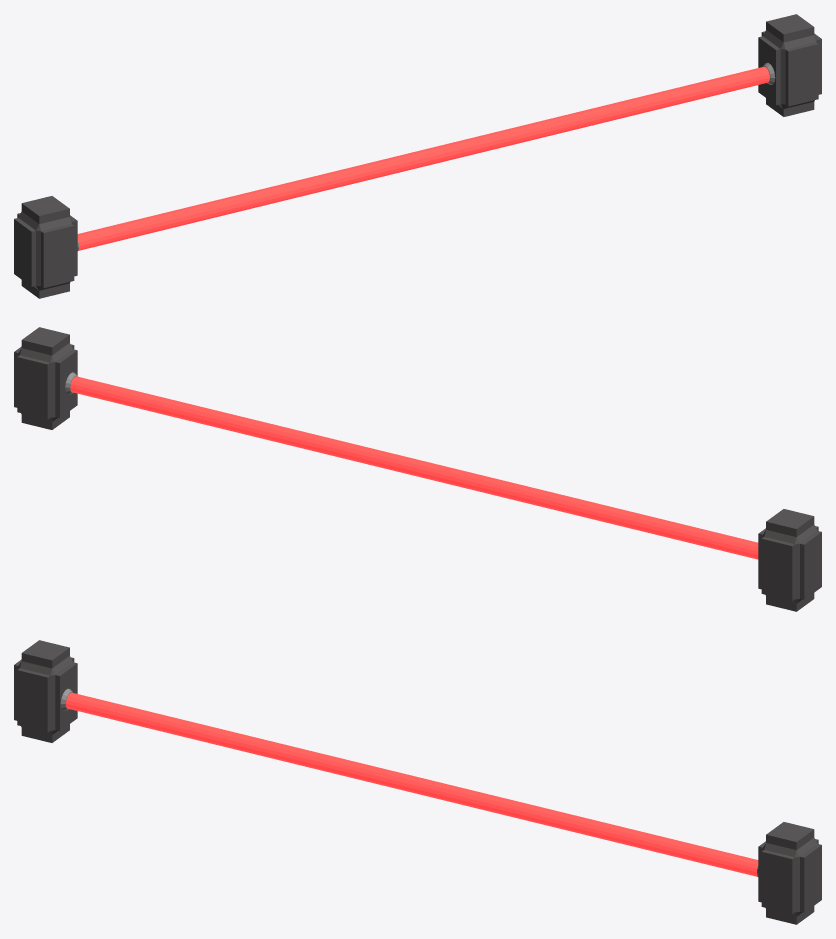
File: KillFloor.fbx
3 renders of one model, top to bottom at view 1: azimuth 30°, elevation 25°; view 2: azimuth 150°, elevation 25°; view 3: azimuth 330°, elevation 25°, orthographic.
Visible parts, largest first — view 1: Cylinder.002, Cube, Cube.001; view 2: Cylinder.002, Cube, Cube.001; view 3: Cylinder.002, Cube.001, Cube.
Boxes of the visible parts, x1,y1,x2,y2 form: Cylinder.002: (77, 66, 769, 250); Cube: (14, 196, 77, 298); Cube.001: (758, 14, 821, 116); Cylinder.002: (70, 376, 758, 559); Cube: (758, 509, 821, 611); Cube.001: (14, 327, 77, 429); Cylinder.002: (66, 692, 758, 876); Cube.001: (758, 822, 821, 924); Cube: (14, 640, 77, 742).
Bounding box in the file's own units: 1372 × 137 × 79.69.
